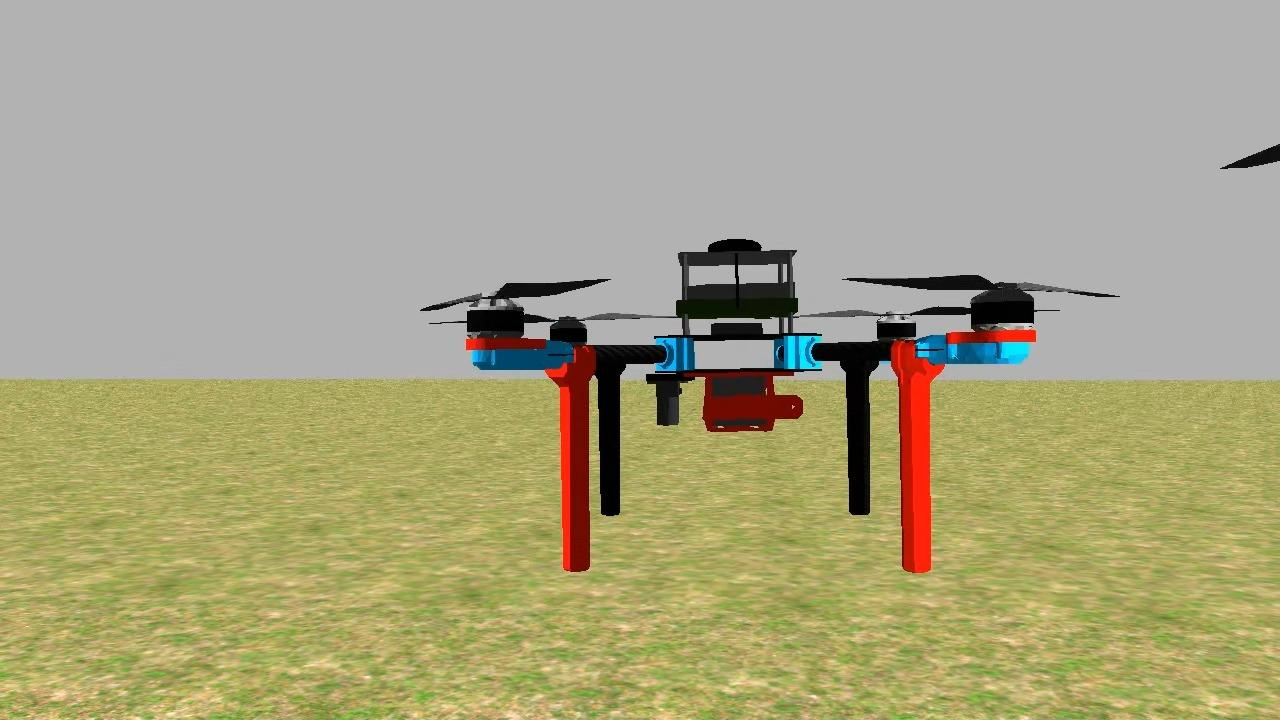UAV: (453, 223, 1047, 593)
